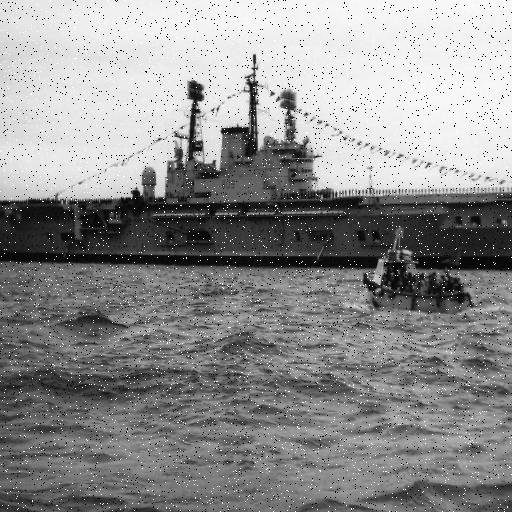Portanaves: (1, 67, 512, 275)
